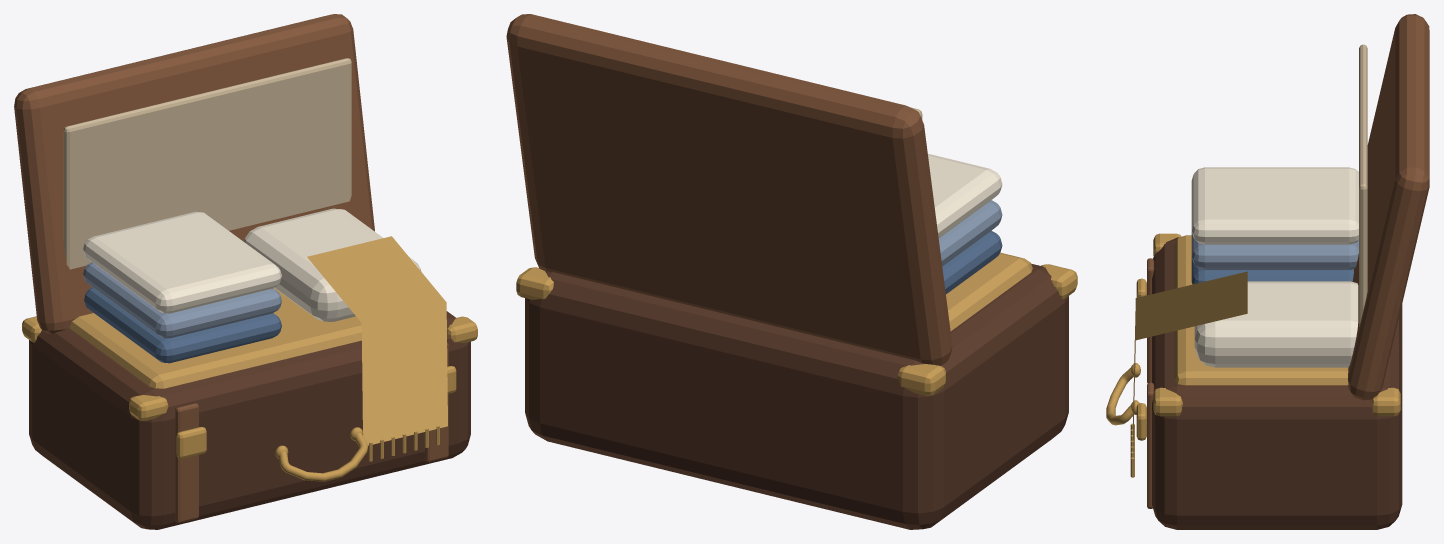
The picture shows the model from 3 angles, left to right: view 1: azimuth 30°, elevation 25°; view 2: azimuth 150°, elevation 25°; view 3: azimuth 270°, elevation 25°; orthographic projection. The views are drawn at different scales.
Visible parts, largest first — view 1: loft_leather_dark, loft_ceramic, loft_leather, loft_ochre, loft_linen, loft_blue_light, loft_blue, loft_brass; view 2: loft_leather, loft_leather_dark, loft_linen, loft_ochre, loft_brass, loft_blue_light, loft_blue; view 3: loft_leather_dark, loft_linen, loft_leather, loft_ochre, loft_blue_light, loft_brass, loft_ceramic, loft_blue.
Boxes of the visible parts, box(x1,y1,x2,y2) form: loft_leather_dark: box(29, 311, 470, 529); loft_ceramic: box(63, 58, 351, 269); loft_leather: box(14, 14, 448, 522); loft_ochre: box(69, 236, 447, 461); loft_linen: box(83, 208, 421, 321); loft_blue_light: box(83, 262, 281, 338); loft_blue: box(84, 287, 281, 363); loft_brass: box(22, 316, 477, 481); loft_leather: box(506, 14, 952, 365); loft_leather_dark: box(525, 263, 1068, 529); loft_linen: box(928, 153, 1002, 238); loft_ochre: box(946, 252, 1032, 330); loft_brass: box(516, 264, 1077, 395); loft_blue_light: box(938, 200, 1002, 266); loft_blue: box(942, 230, 1002, 293); loft_leather_dark: box(1152, 237, 1402, 529); loft_linen: box(1191, 167, 1358, 367); loft_leather: box(1147, 14, 1429, 508); loft_ochre: box(1130, 235, 1348, 477); loft_blue_light: box(1191, 232, 1358, 269); loft_brass: box(1106, 233, 1400, 440); loft_ceramic: box(1359, 44, 1367, 326); loft_blue: box(1191, 257, 1353, 284).
Bounding box in the file's own units: 1.36 × 1.36 × 1.1.
